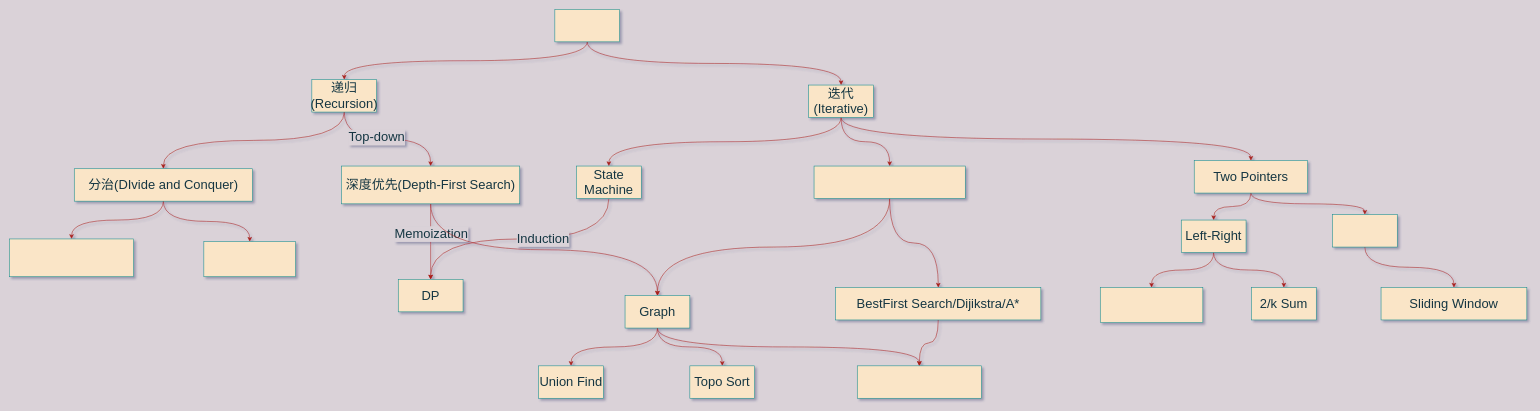
Some shapes in this 1540 by 411 pixel diagram are drawn without their labels. The shapes that lost their labels are listed below. From the top down, each one's box as (x1, y1, x2, y2) in pixels, then its label:
(554, 9, 620, 42): 算法
(814, 166, 965, 198): Breadth-First Search
(1332, 214, 1397, 247): Slow-fast
(9, 238, 134, 277): Merge/Quick Sort
(203, 241, 296, 277): MapReduce
(1100, 287, 1203, 323): Binary Search
(857, 365, 981, 398): Shortest Path
